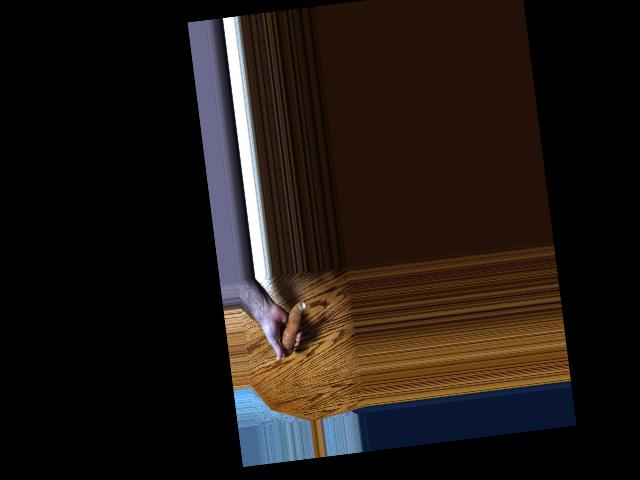sweet_potato: (275, 298, 311, 355)
